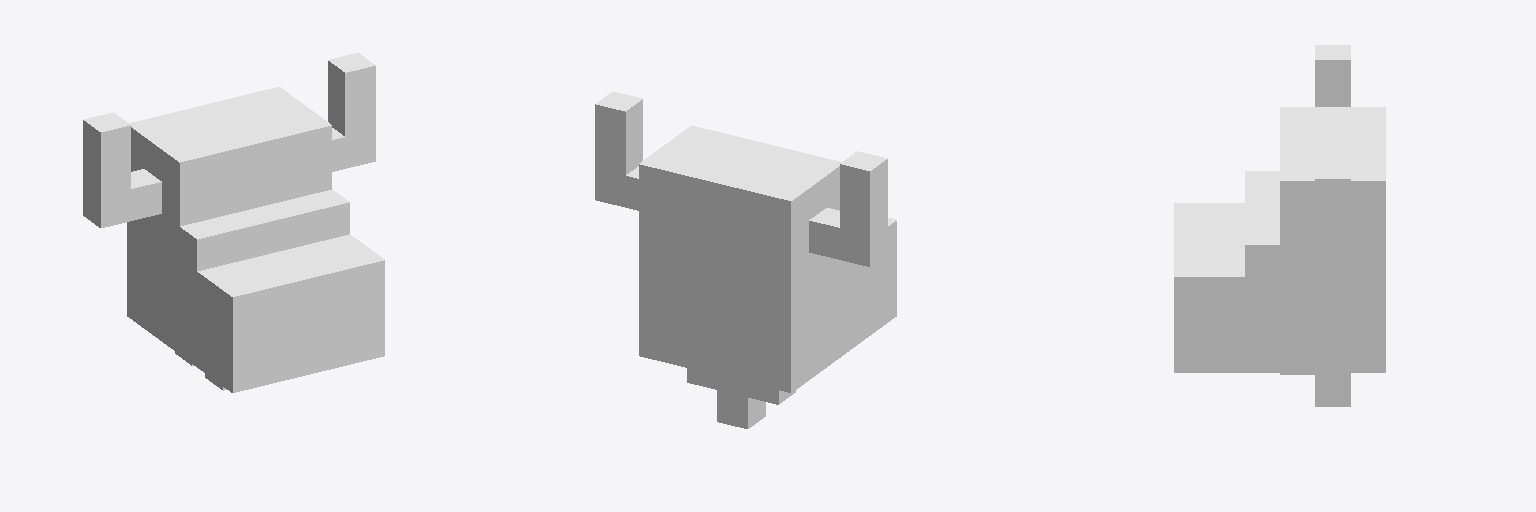
Rendered from ushi_head.obj.
The picture shows the model from 3 angles: view 1: azimuth 30°, elevation 25°; view 2: azimuth 150°, elevation 25°; view 3: azimuth 270°, elevation 25°; orthographic projection.
Visible parts, largest first — view 1: object 1; view 2: object 1; view 3: object 1.
Part boxes in pixels (x1,y1,x2,y2): object 1: (83,53,384,392); object 1: (595,92,896,428); object 1: (1174,45,1385,406).
Bounding box in the file's own units: 3.6 × 3.6 × 2.4.